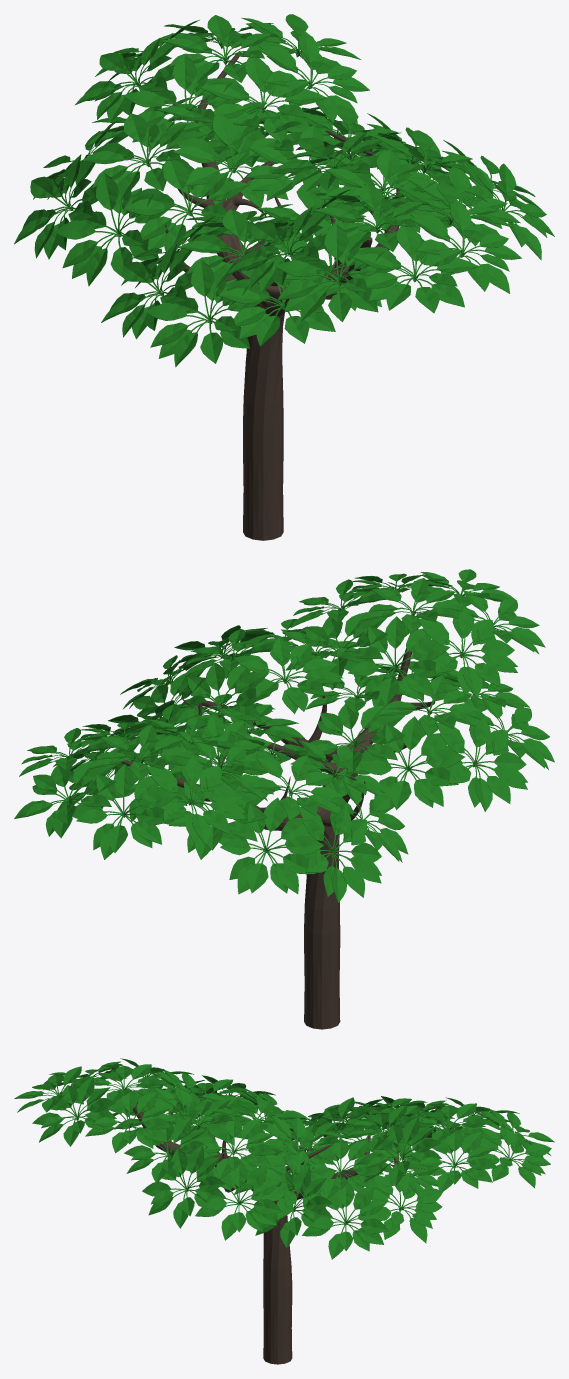
Rendered from Tree finished.fbx.
3 views of the same model, one above another, from view 1: azimuth 30°, elevation 25°; view 2: azimuth 150°, elevation 25°; view 3: azimuth 270°, elevation 25° (orthographic). The views are drawn at different scales.
Visible parts, largest first — view 1: pCylinder1; view 2: pCylinder1; view 3: pCylinder1.
Boxes of the visible parts, x1,y1,x2,y2 form: pCylinder1: (14, 14, 554, 540); pCylinder1: (14, 569, 554, 1029); pCylinder1: (14, 1058, 554, 1364).
Size of the model in its own units: 21.27 by 18.96 by 32.39.
